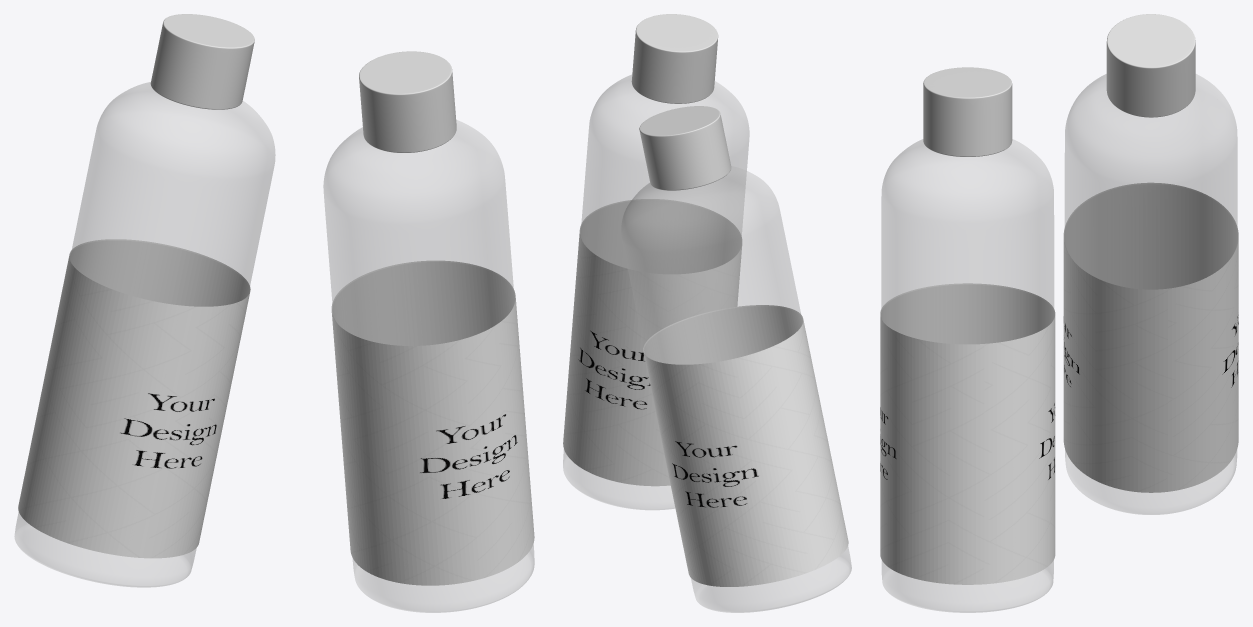
Rendered from Glass_Bottle-A4.glb.
3 views of the same model, side by side, from view 1: azimuth 30°, elevation 25°; view 2: azimuth 150°, elevation 25°; view 3: azimuth 270°, elevation 25° (orthographic). The views are drawn at different scales.
Visible parts, largest first — view 1: Circle.007, Circle.005, Circle.006, Circle.004, Circle.001, Circle.003, Circle.008, Circle.002; view 2: Circle.007, Circle.006, Circle.004, Circle.005, Circle.001, Circle.003, Circle.008, Circle.002; view 3: Circle.005, Circle.004, Circle.007, Circle.006, Circle.008, Circle.002, Circle.001, Circle.003.
Part boxes in pixels (x1=…): Circle.007: x1=18, y1=239, x2=250, y2=558; Circle.005: x1=331, y1=260, x2=534, y2=585; Circle.006: x1=14, y1=82, x2=275, y2=587; Circle.004: x1=323, y1=120, x2=534, y2=612; Circle.001: x1=332, y1=262, x2=515, y2=345; Circle.003: x1=359, y1=51, x2=456, y2=152; Circle.008: x1=69, y1=240, x2=249, y2=306; Circle.002: x1=150, y1=14, x2=254, y2=109; Circle.007: x1=643, y1=305, x2=848, y2=586; Circle.006: x1=621, y1=166, x2=851, y2=612; Circle.004: x1=563, y1=75, x2=749, y2=509; Circle.005: x1=563, y1=199, x2=742, y2=486; Circle.001: x1=580, y1=200, x2=741, y2=273; Circle.003: x1=631, y1=14, x2=718, y2=103; Circle.008: x1=644, y1=306, x2=803, y2=364; Circle.002: x1=639, y1=106, x2=731, y2=190; Circle.005: x1=880, y1=283, x2=1055, y2=584; Circle.004: x1=881, y1=139, x2=1053, y2=612; Circle.007: x1=1063, y1=182, x2=1238, y2=492; Circle.006: x1=1065, y1=74, x2=1237, y2=514; Circle.008: x1=1064, y1=184, x2=1237, y2=289; Circle.002: x1=1106, y1=14, x2=1195, y2=117; Circle.001: x1=881, y1=284, x2=1054, y2=344; Circle.003: x1=923, y1=67, x2=1012, y2=156.
Size of the model in its own units: 5.03 by 6.33 by 4.12.
Materials: 4 (1 with a texture image).
